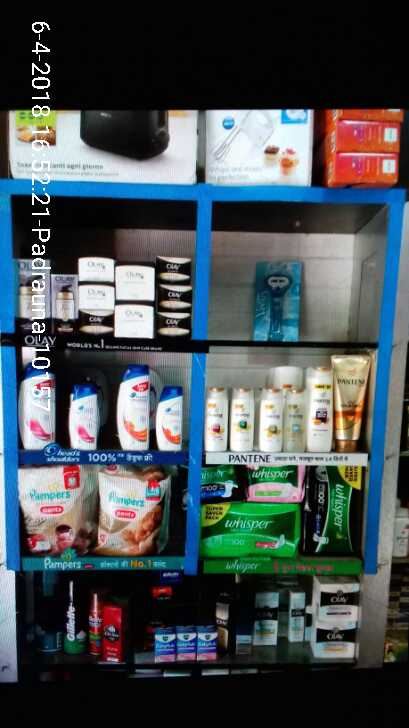gillete: (66, 579, 86, 653), (89, 594, 103, 654)
venus: (254, 259, 307, 341)
